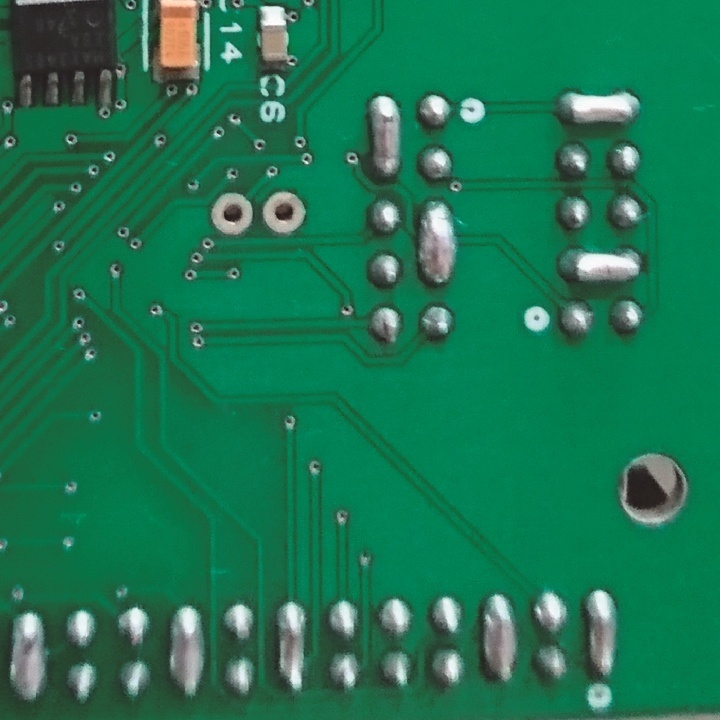F: (259, 188, 309, 240), (207, 189, 256, 237)
P: (548, 86, 649, 132), (417, 192, 460, 293), (7, 606, 50, 705), (479, 587, 519, 686), (554, 246, 650, 287), (167, 602, 206, 701), (583, 587, 623, 680), (273, 597, 310, 693), (367, 91, 403, 183)
